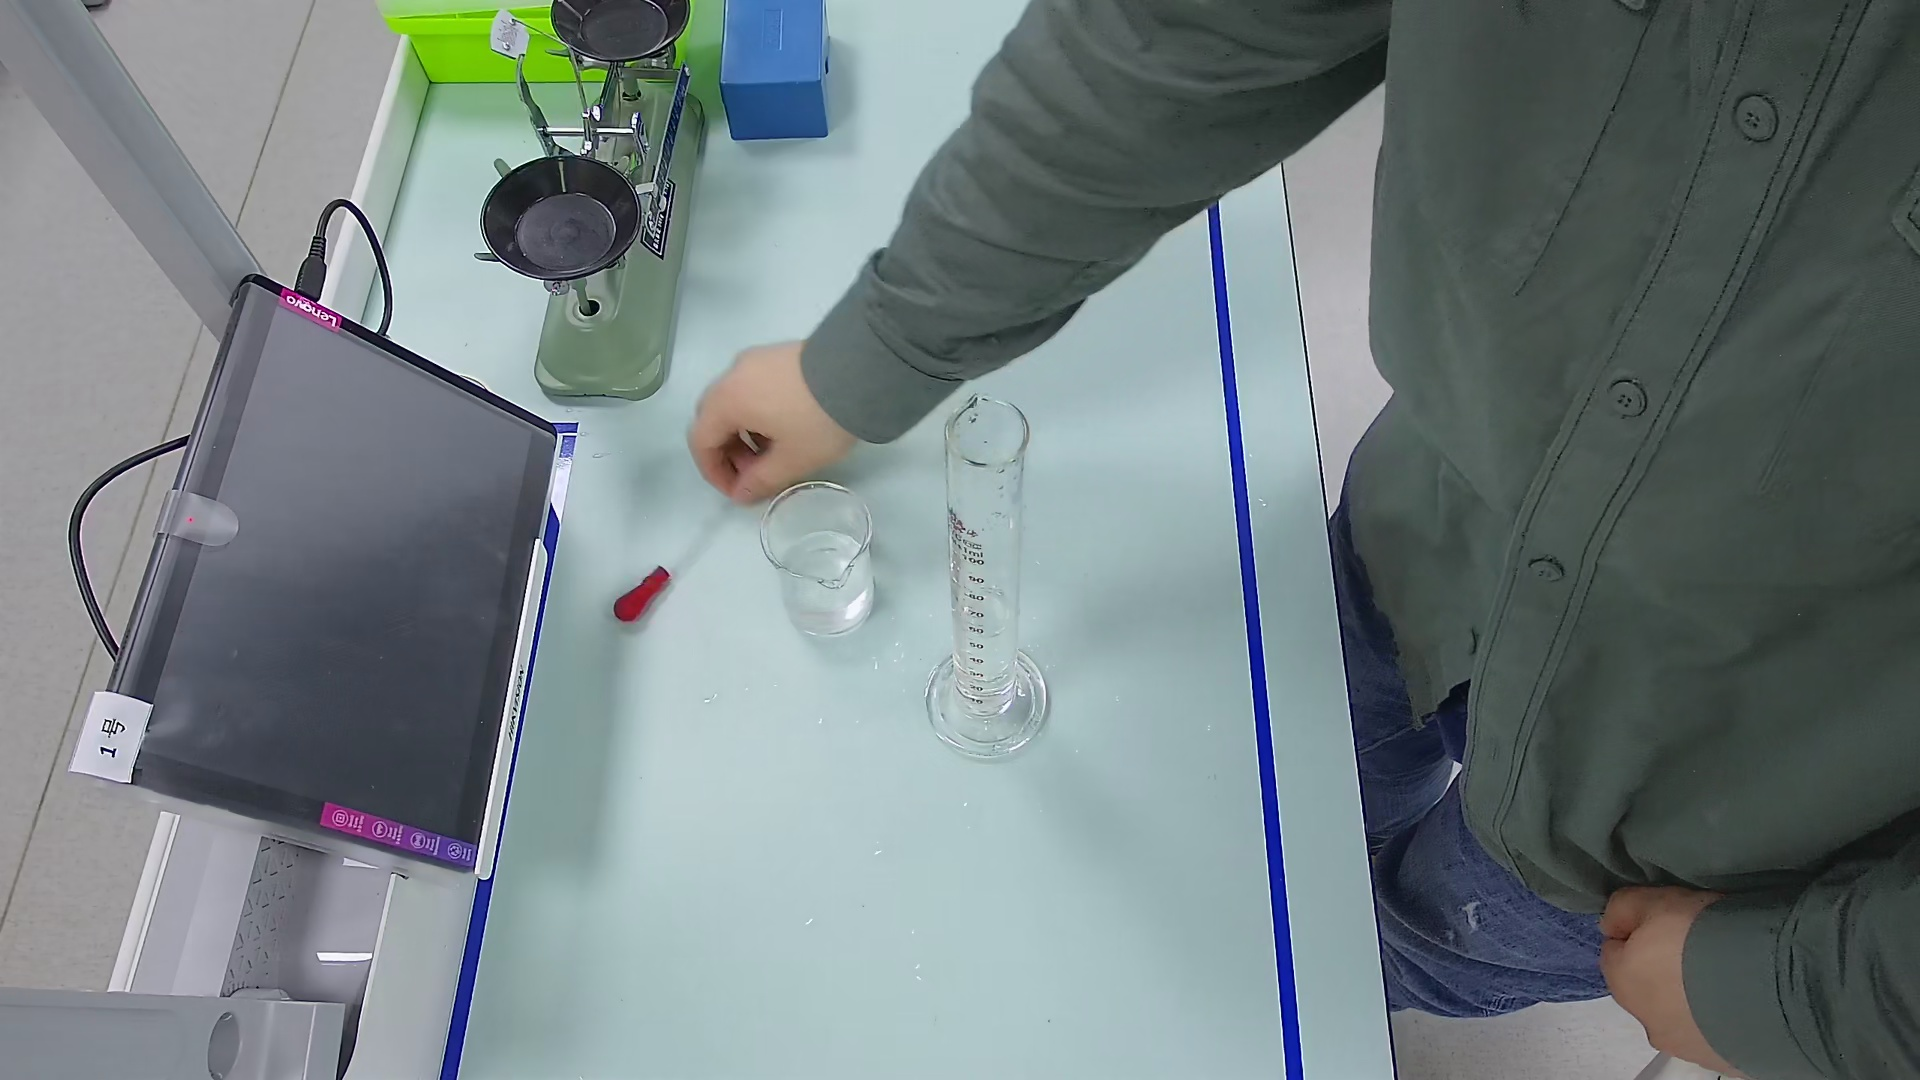ao: (953, 576, 1015, 622)
bei: (761, 479, 884, 638)
diguan: (593, 483, 740, 640)
diguantou: (611, 560, 678, 625)
hand: (1586, 891, 1737, 1065), (694, 339, 839, 498)
liangdi: (916, 646, 1051, 771)
liangtong: (934, 396, 1048, 765)
tuo: (465, 146, 647, 287), (545, 1, 684, 65)
